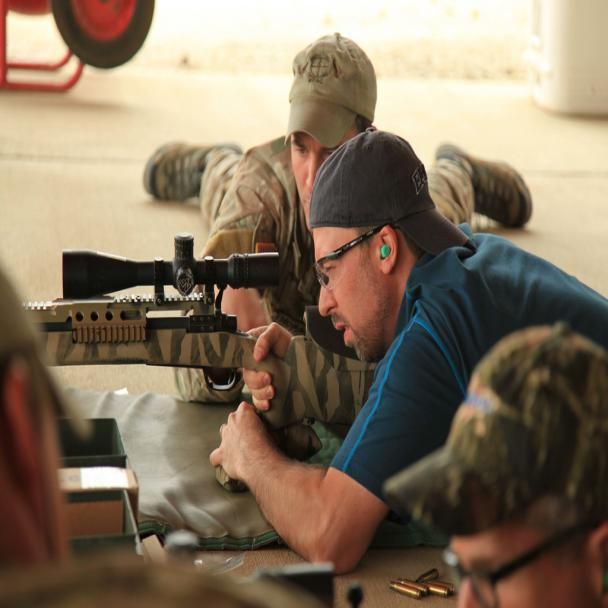Gun: (0, 230, 294, 410)
Hand: (209, 396, 296, 504), (246, 321, 300, 421)
